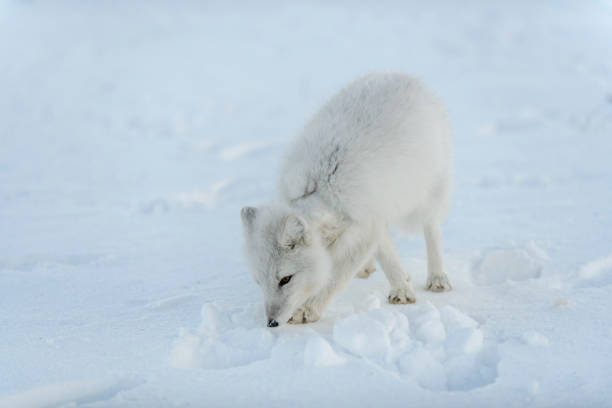arcticfox: (231, 194, 341, 341)
